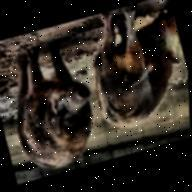boar: (75, 0, 190, 138), (0, 34, 106, 179)
